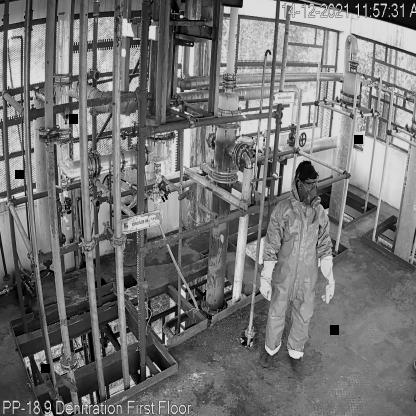mask: (304, 186, 323, 210)
